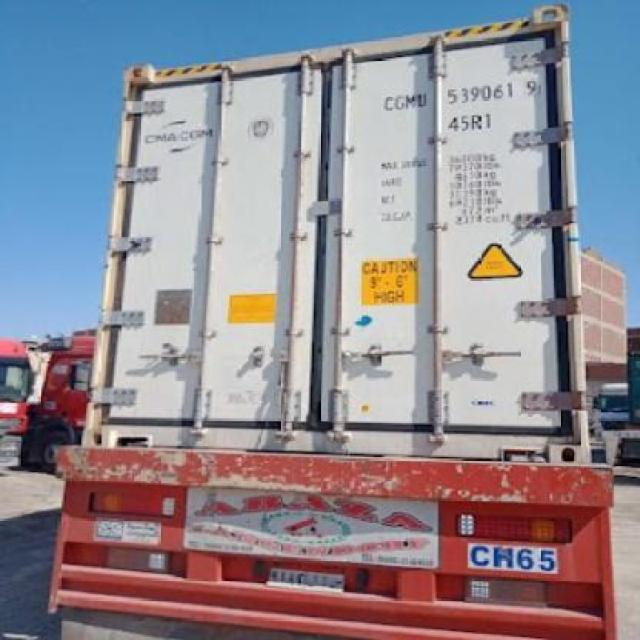ISO: (446, 114, 491, 134)
container_number: (386, 81, 534, 106)
